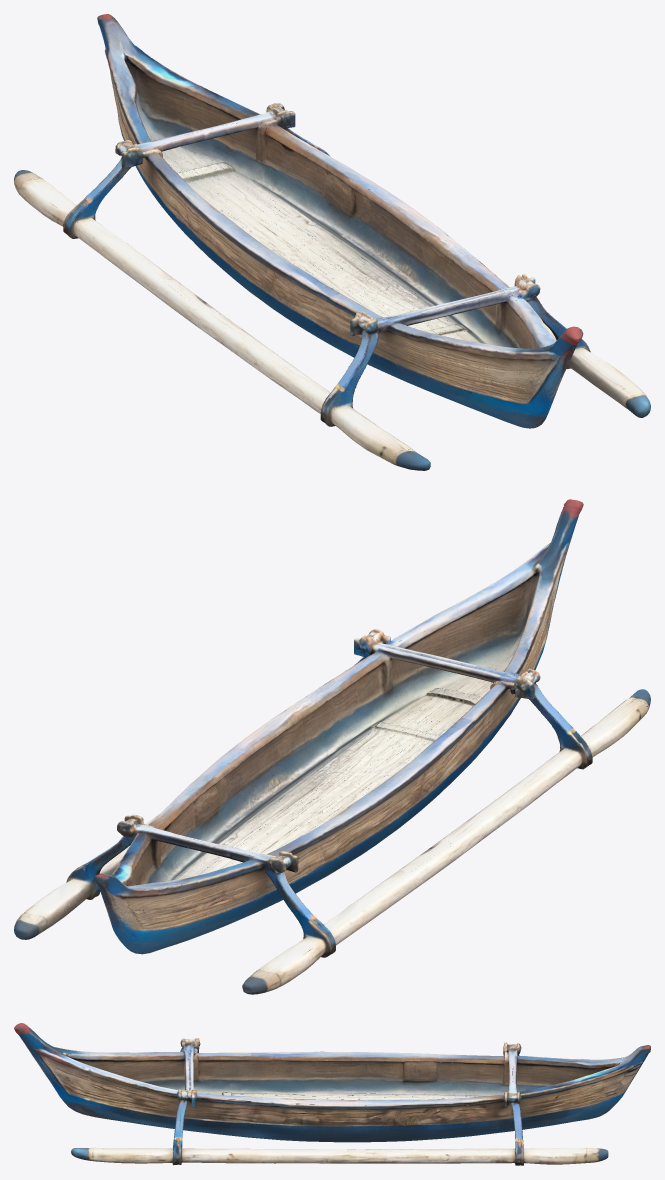
File: opening-boat.glb
3 views of the same model, one above another, from view 1: azimuth 30°, elevation 25°; view 2: azimuth 150°, elevation 25°; view 3: azimuth 270°, elevation 25° (orthographic). The views are drawn at different scales.
Visible parts, largest first — view 1: Opening boat replacement source; view 2: Opening boat replacement source; view 3: Opening boat replacement source.
Part boxes in pixels (x1,y1,x2,y2): Opening boat replacement source: (14,14,650,470); Opening boat replacement source: (14,499,650,994); Opening boat replacement source: (14,1023,650,1165).
Bounding box in the file's own units: 0.6077 × 0.3329 × 1.9.
1 material, 1 textured.
